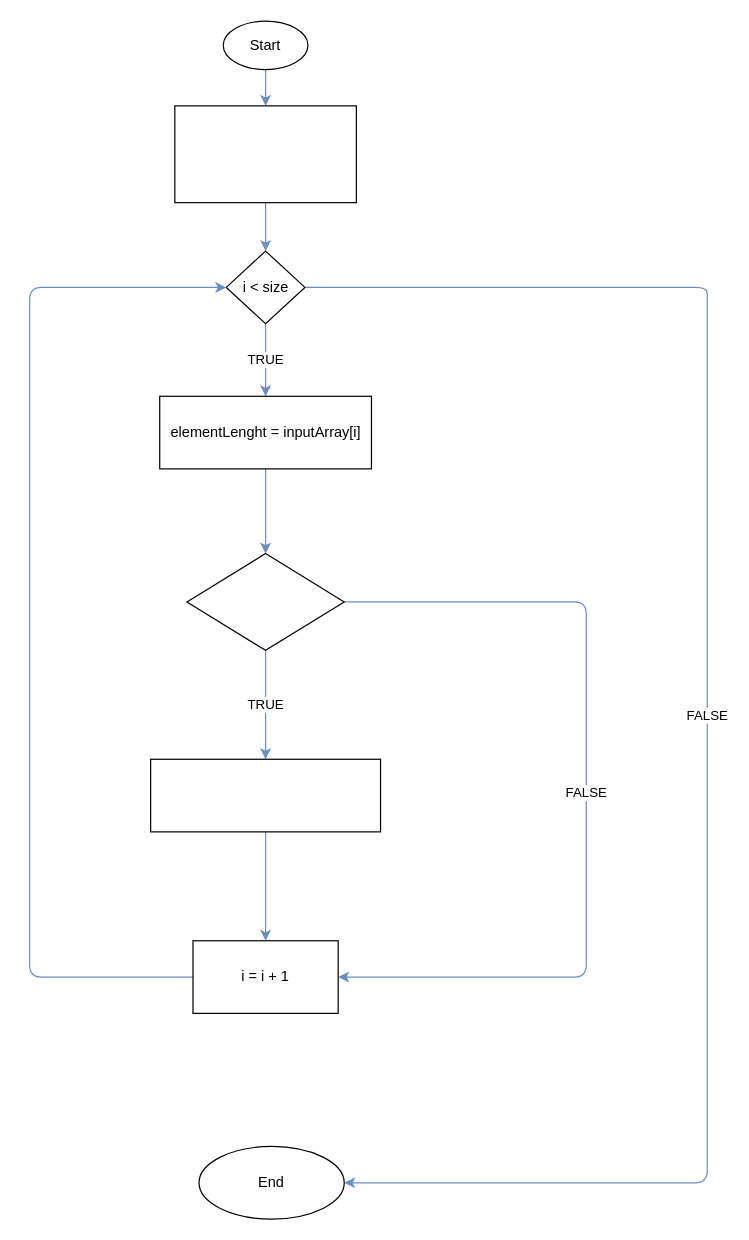
Some shapes in this 749 by 1240 pixel diagram are drawn without their labels. Each missing label, with the box of its shape:
elementLenght <= 3: (186, 552, 344, 650)
outputArray[index] = inputArray[i] index = index + 1: (149, 758, 381, 832)
size inputArray = [string, size] outputArray = [string, size] i = 0 index = 0: (174, 105, 356, 203)
